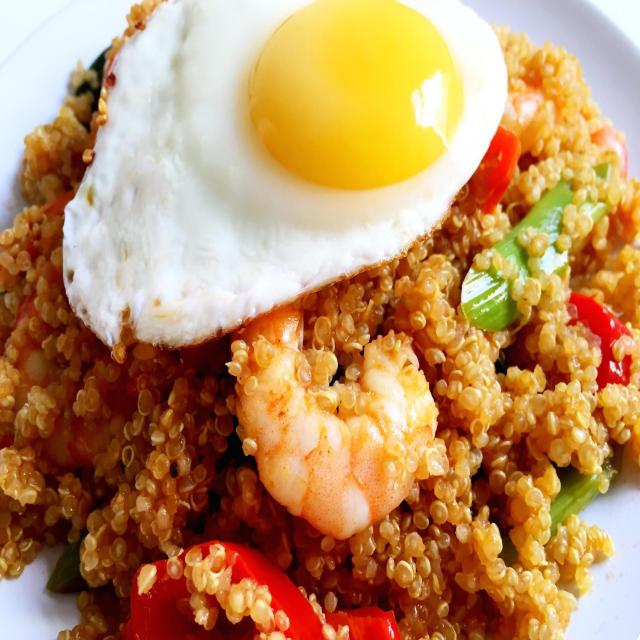Nasi Goreng: (17, 0, 637, 640)
